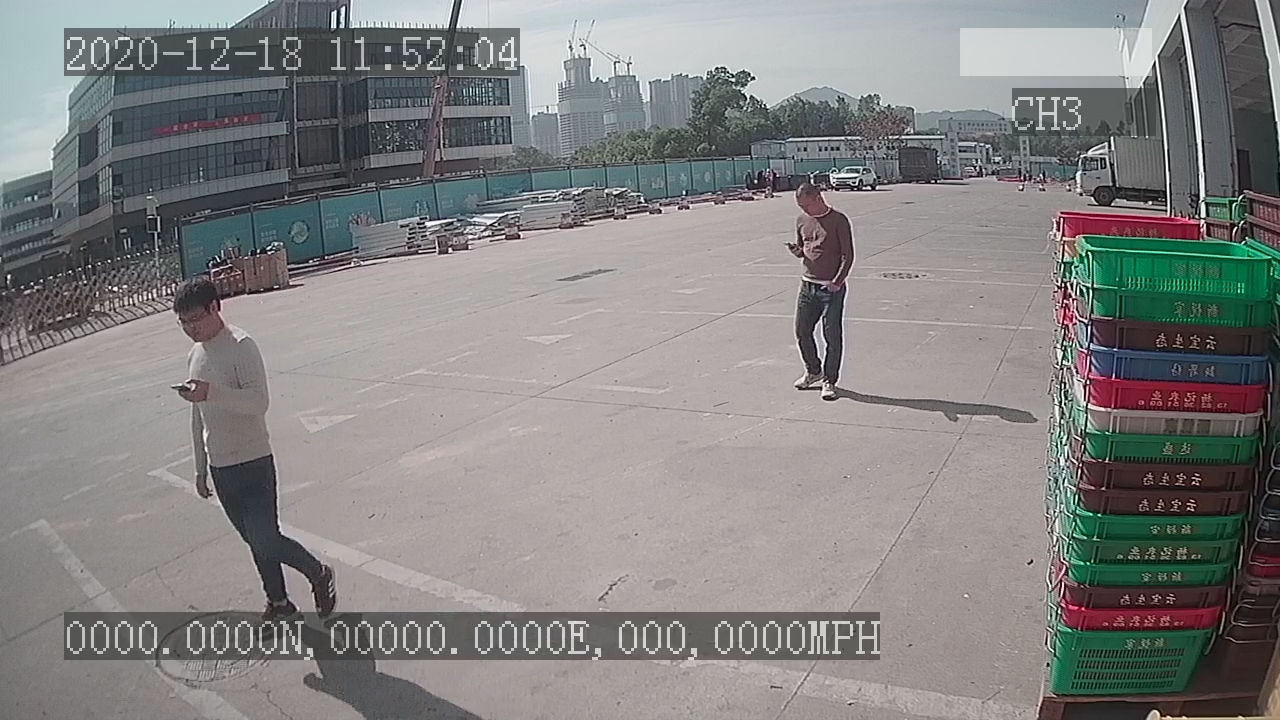person: (777, 177, 861, 408)
